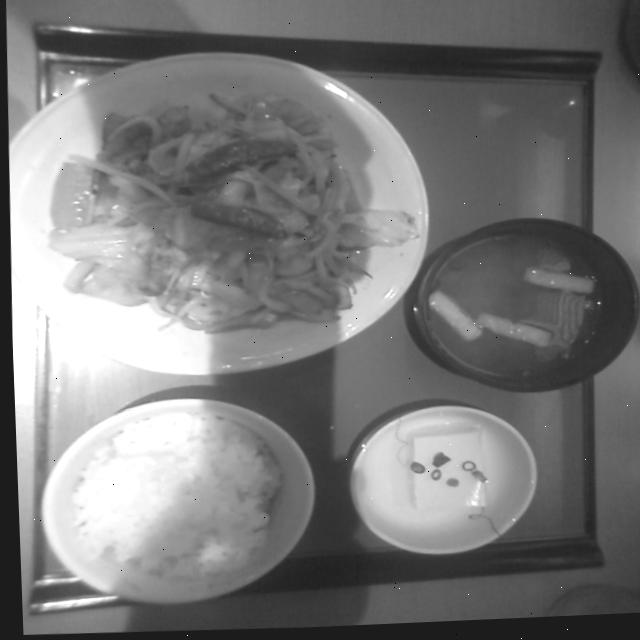米饭主食: (50, 397, 279, 597)
